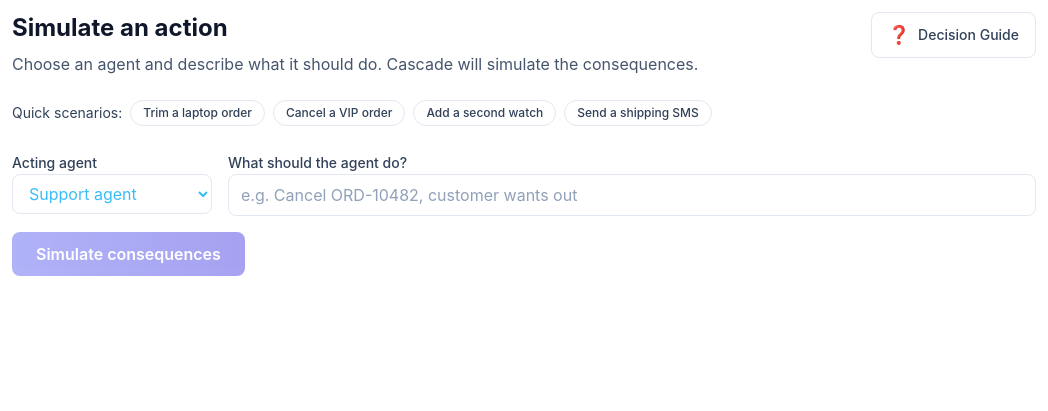
Scenario: SimulatePage landing › shows a parser failure clearly and does not start a simulation
Type "Cancel ORD-10482" into the field with placeholder "e.g. Cancel ORD-10482, customer wants out" at {"x": 632, "y": 195}, box [228,174,1036,216]
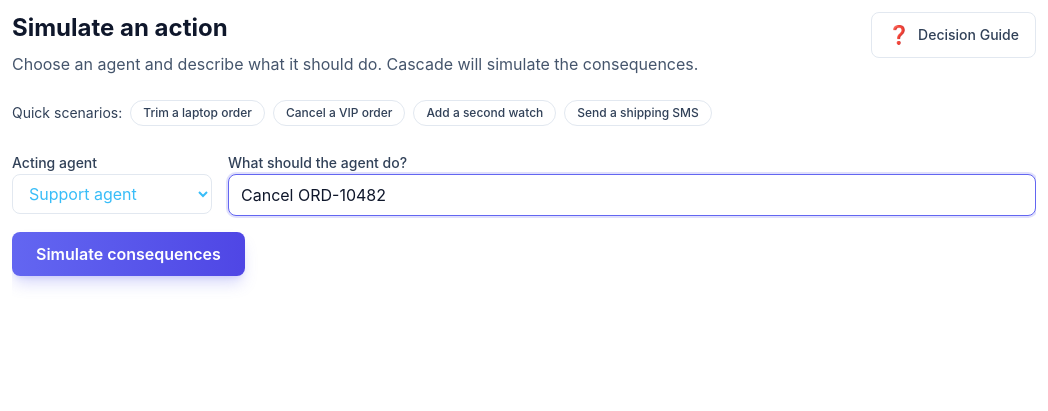
Click the button "Simulate consequences" at {"x": 128, "y": 254}, box [12,232,245,276]
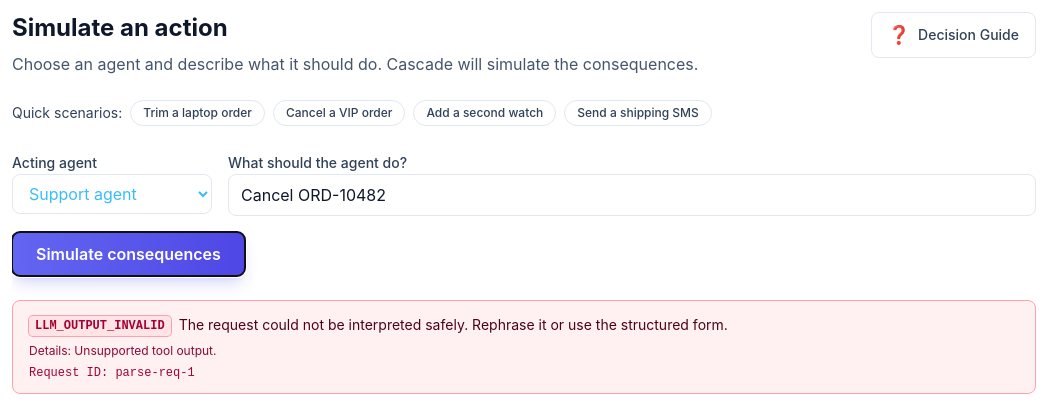
expect the message shows "LLM_OUTPUT_INVALID": met, box [35,319,165,333]
expect the message shows "Rephrase it or use the structured form": met, box [179,316,728,333]
expect the message shows "Unsupported tool output": met, box [74,343,216,358]
